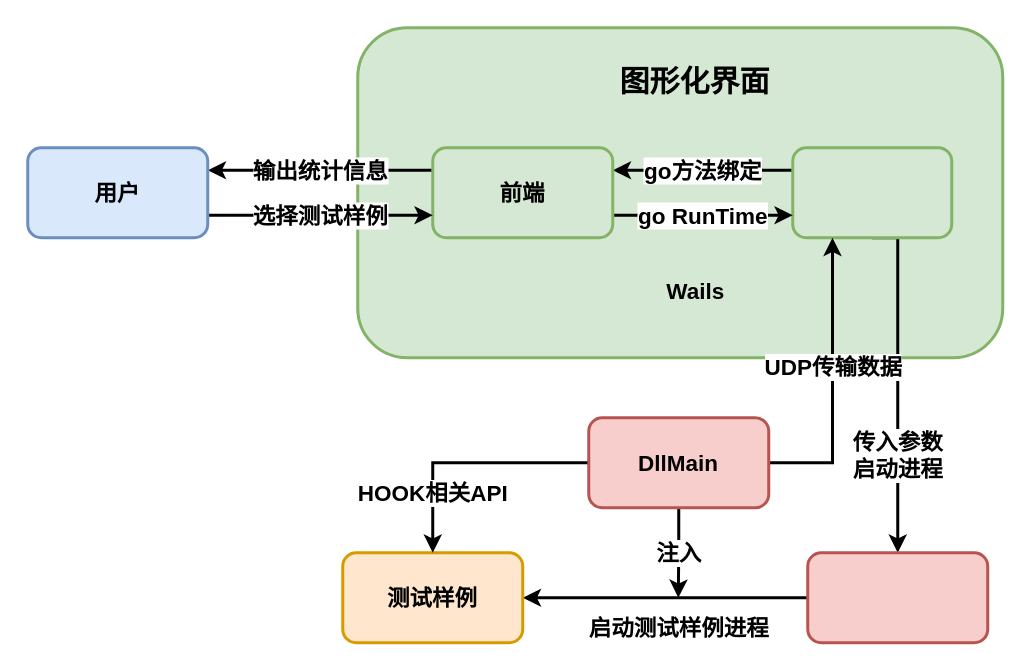
The diagram is 1029 pixels wide and 669 high, and some of its shapes have lost their labels. The centre of each missing label's shape, as x and y in pixels:
"后端" goes at pixel 871 192.
"注射器" goes at pixel 897 597.
